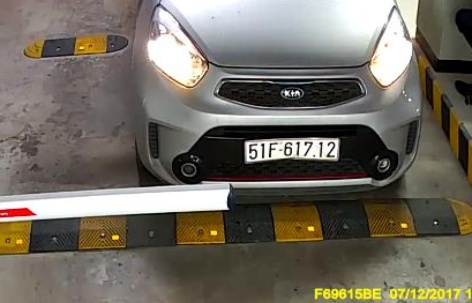plate: (241, 130, 357, 174)
